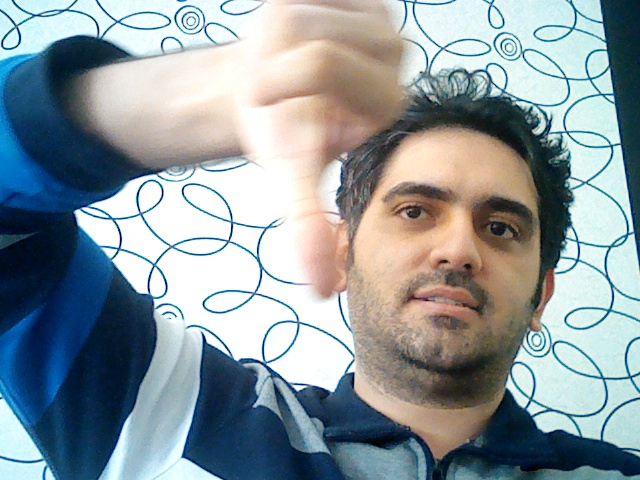ThumbsDown: (206, 1, 410, 301)
